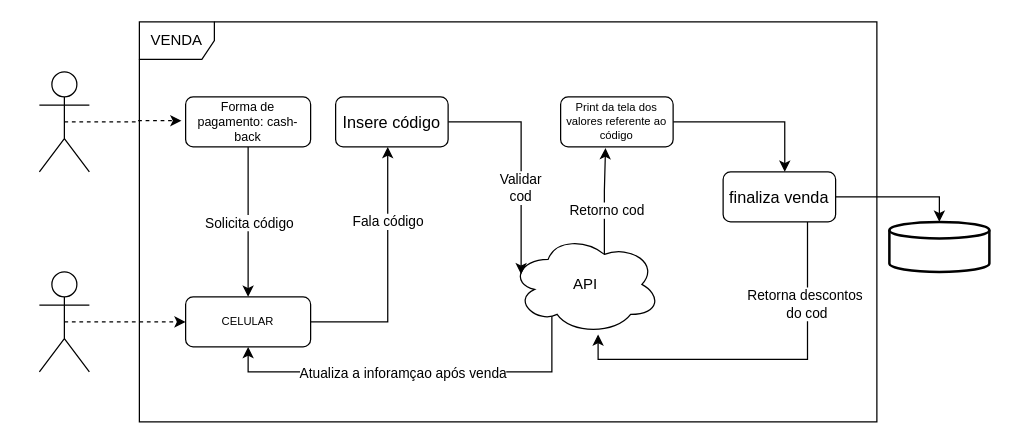
This 1013x444 diagram has some shape labels left out. The centre of each missing label's shape, as x and y in pixels:
"Autosystem" belongs at point (939, 246).
"CLIENTE" belongs at point (63, 321).
"OPERADOR" belongs at point (63, 121).
